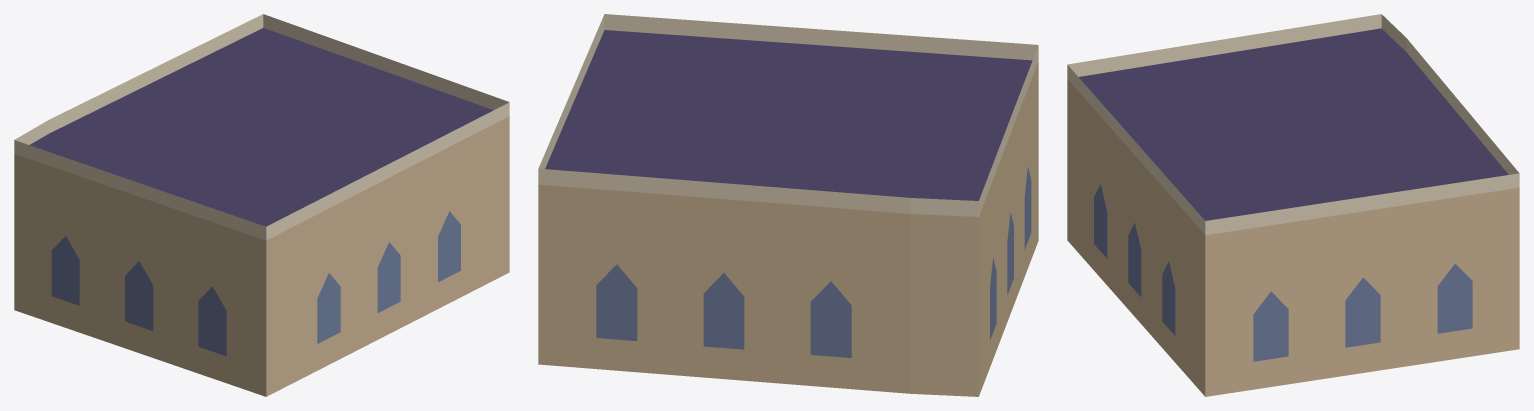
File: b-098-day.glb
3 views of the same model, side by side, from view 1: azimuth 30°, elevation 25°; view 2: azimuth 150°, elevation 25°; view 3: azimuth 270°, elevation 25° (orthographic). The views are drawn at different scales.
Visible parts, largest first — view 1: campus/b-098-day-0; view 2: campus/b-098-day-0; view 3: campus/b-098-day-0.
Boxes of the visible parts, <box> form: campus/b-098-day-0: <box>14,14,509,396</box>; campus/b-098-day-0: <box>538,14,1038,396</box>; campus/b-098-day-0: <box>1067,14,1519,396</box>.
Size of the model in its own units: 17.03 by 6.75 by 15.72.
